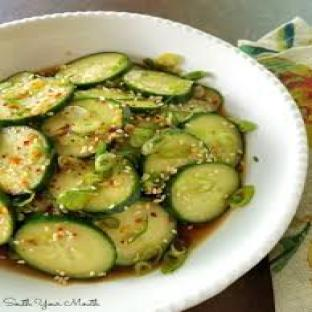Cucumber: (13, 216, 115, 278), (97, 202, 176, 266), (49, 157, 139, 213), (42, 99, 123, 156), (142, 129, 209, 192), (168, 163, 239, 222), (0, 73, 73, 125), (0, 127, 53, 195), (184, 114, 242, 166), (57, 52, 130, 86), (161, 86, 223, 124), (74, 86, 164, 112), (123, 70, 192, 101), (190, 85, 223, 112), (0, 192, 14, 245), (0, 72, 35, 89), (123, 98, 164, 112)
